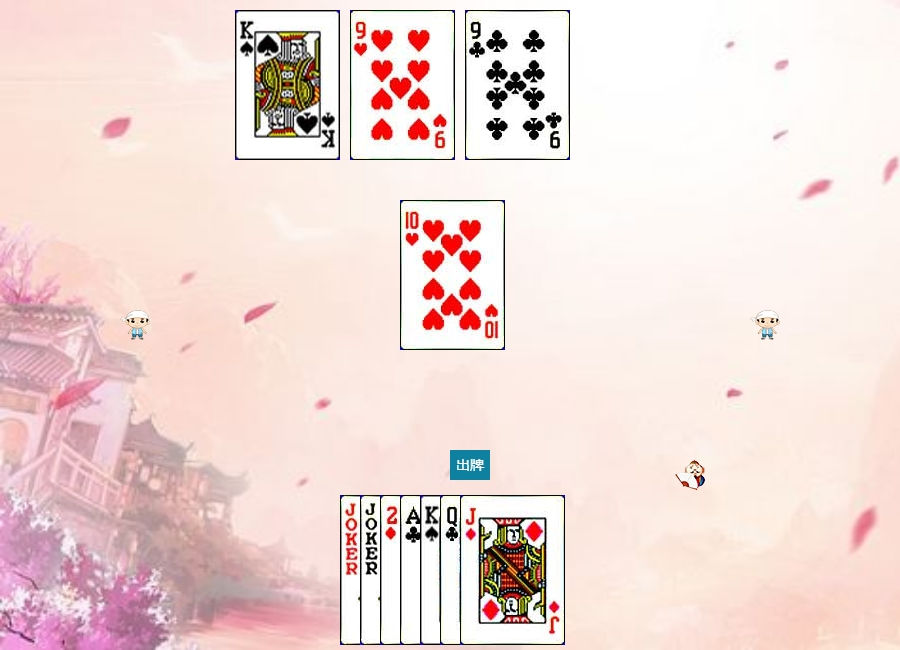10~3: (400, 200, 505, 350)
11~1: (460, 495, 565, 645)
12~2: (440, 495, 545, 645)
13~4: (235, 10, 340, 160), (420, 495, 525, 645)
14~2: (400, 495, 505, 645)
15~1: (380, 495, 485, 645)
17~3: (360, 495, 465, 645)
18~4: (340, 495, 445, 645)
9~2: (465, 10, 570, 160)
9~3: (350, 10, 455, 160)
